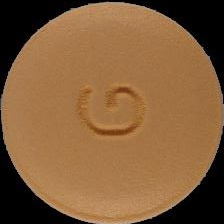43063-612: (0, 0, 224, 224)
